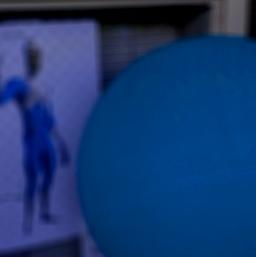algae: (79, 34, 256, 257)
